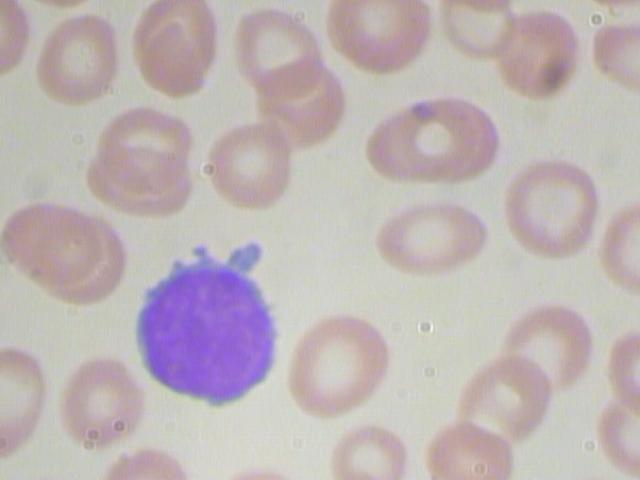RBC: (279, 310, 396, 422), (504, 156, 609, 265), (361, 94, 479, 187), (228, 4, 331, 103), (447, 355, 554, 448), (373, 191, 491, 275), (203, 118, 302, 213), (487, 7, 586, 102), (29, 12, 128, 107), (96, 102, 200, 192), (1, 196, 106, 285), (126, 1, 221, 99), (499, 303, 600, 395), (325, 1, 433, 79), (59, 353, 142, 450), (419, 413, 512, 480)
